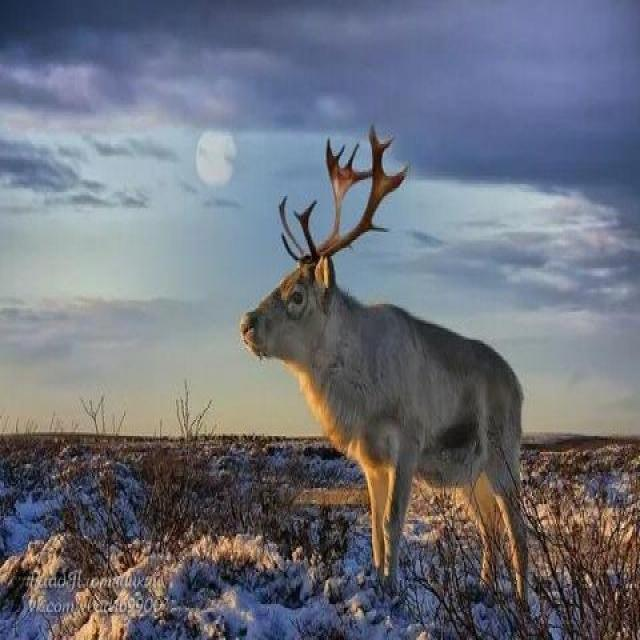deer: (228, 149, 532, 591)
